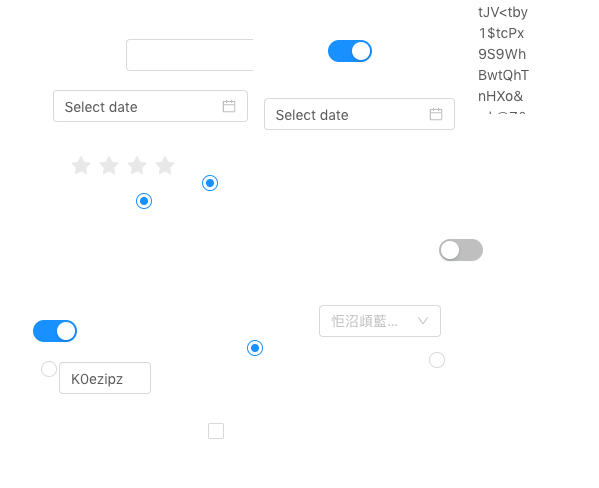Checkbox: (208, 420, 224, 441)
DatePicker: (53, 90, 248, 122), (264, 98, 455, 130)
Input: (126, 39, 253, 71), (59, 362, 151, 394)
Radio: (136, 190, 152, 210), (202, 172, 218, 192), (429, 349, 445, 369), (41, 358, 57, 378), (247, 337, 263, 357)
Rate: (71, 149, 191, 181)
Select: (319, 305, 441, 337)
Switch: (328, 39, 372, 63), (439, 238, 483, 262), (33, 319, 77, 343)
Text: (478, 1, 532, 114)
